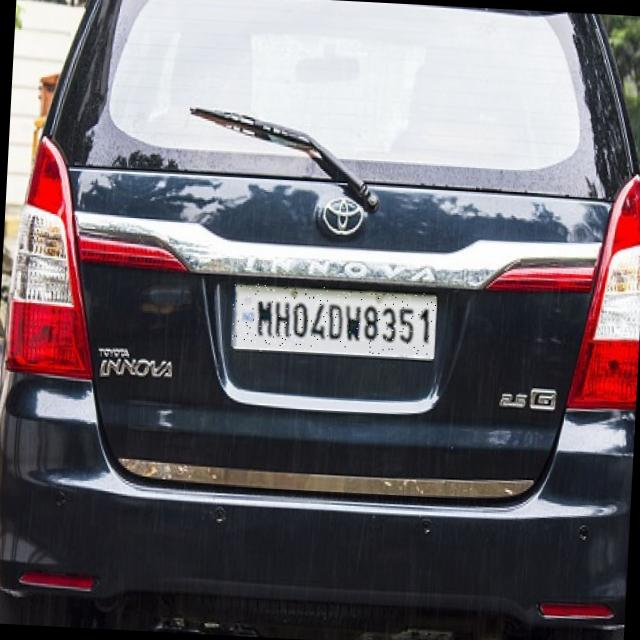Plate: (232, 283, 438, 358)
